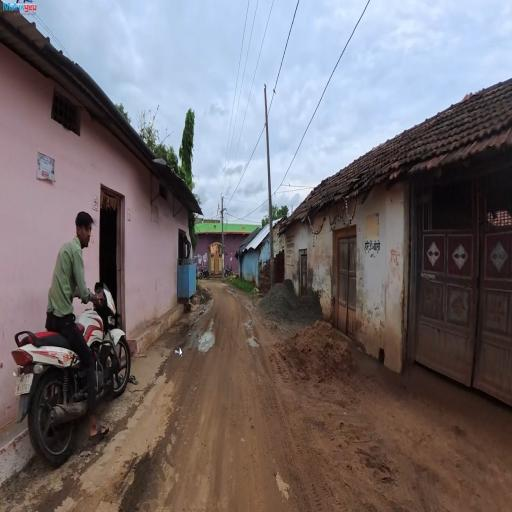pothole: (199, 318, 222, 379)
